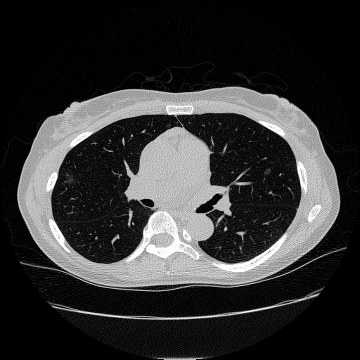nodule: (265, 168, 271, 174)
